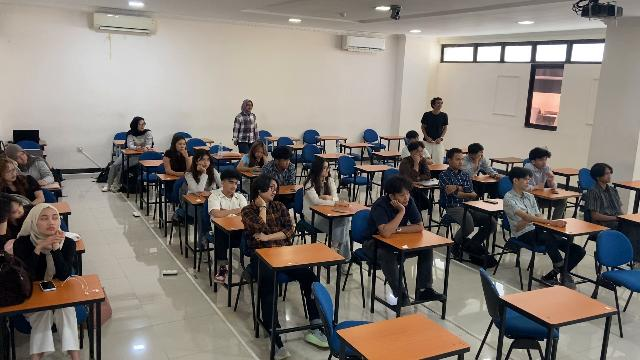bosan: (39, 211, 58, 235), (396, 188, 410, 206), (10, 201, 24, 218), (267, 181, 278, 201), (5, 163, 17, 181), (226, 179, 238, 193), (198, 156, 210, 169), (454, 154, 464, 169), (521, 175, 531, 190), (17, 152, 29, 164), (537, 157, 549, 169), (322, 162, 331, 177), (280, 156, 290, 169), (603, 170, 613, 183), (415, 147, 424, 159), (176, 141, 186, 151), (256, 149, 264, 159)
